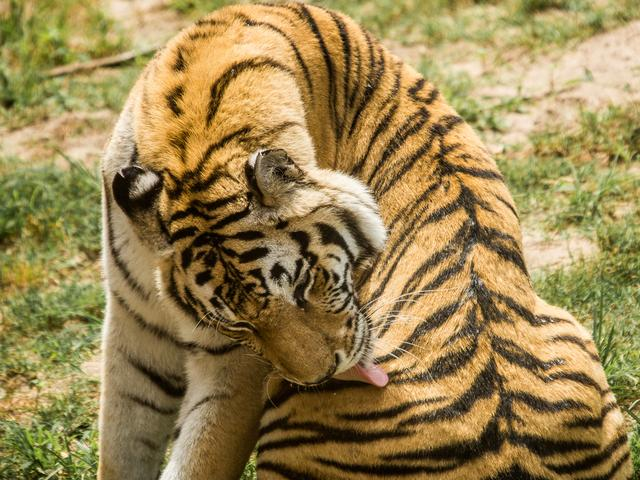tiger: (46, 12, 640, 476)
